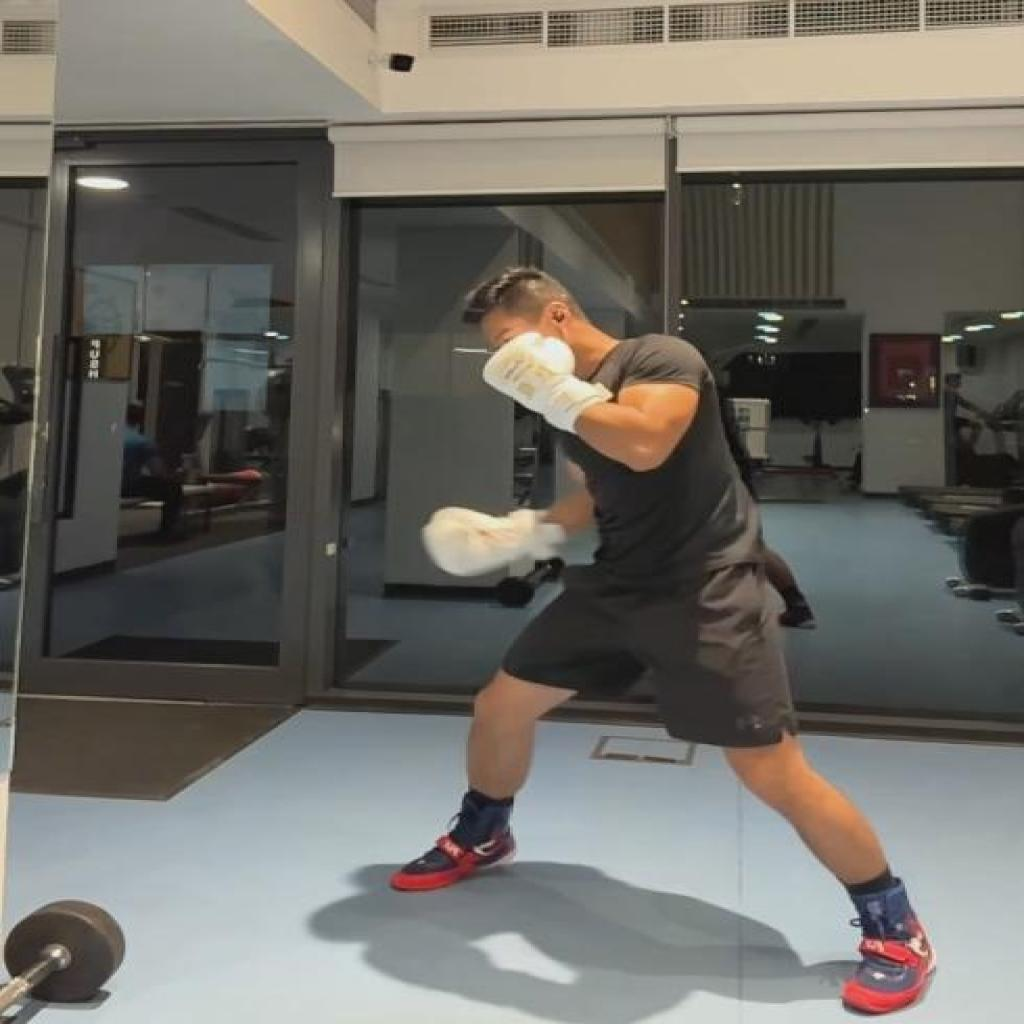uppercut: (386, 264, 944, 1024)
